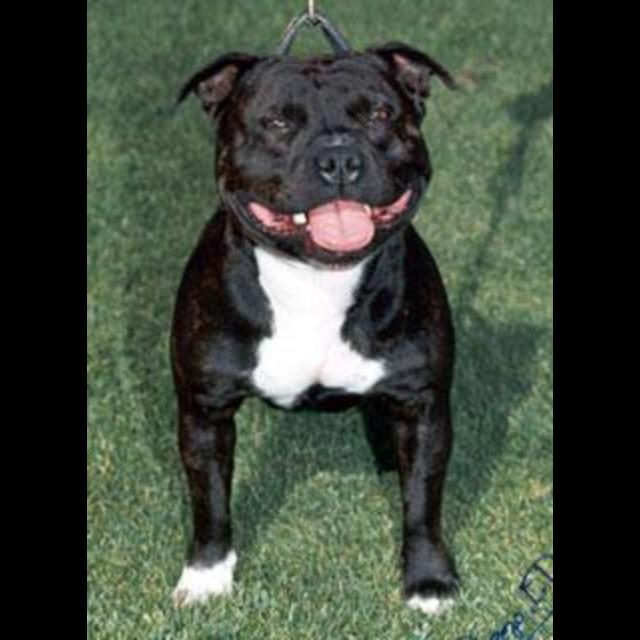staffford: (168, 27, 462, 617)
